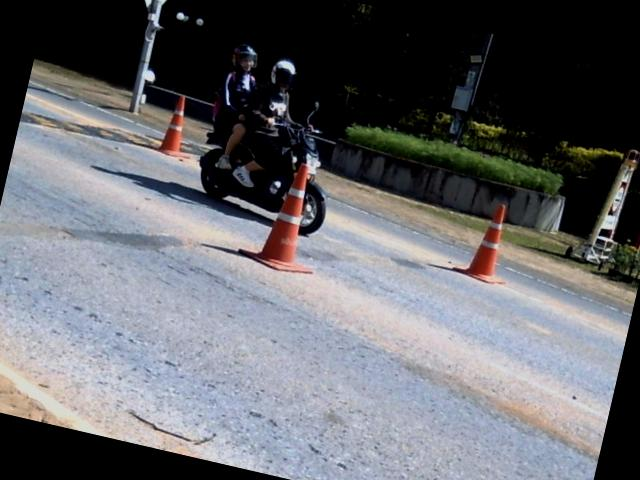helmet: (266, 54, 302, 92), (232, 42, 257, 75)
person: (231, 59, 300, 187), (213, 44, 257, 168)
